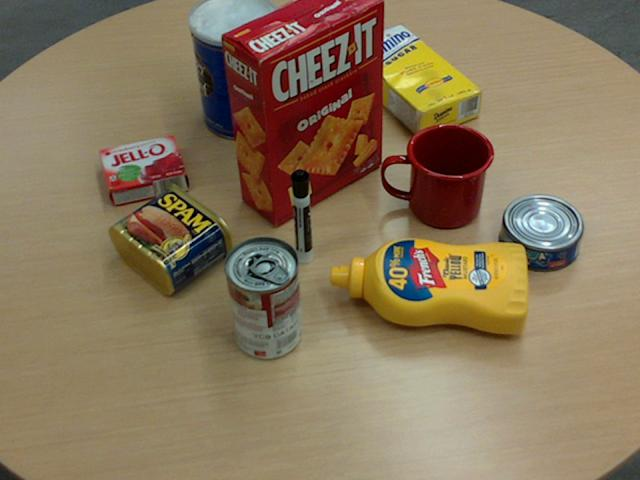cracker_box: (220, 0, 384, 225)
gelatin_box: (98, 133, 186, 204)
large_marker: (289, 169, 313, 264)
master_chef_can: (188, 0, 283, 140)
mug: (382, 122, 493, 227)
mustard_bottle: (329, 238, 527, 332)
potted_meat_can: (108, 182, 233, 294)
sugar_box: (343, 23, 482, 138)
tomato_soup_can: (222, 235, 301, 358)
tuna_fish_can: (498, 193, 583, 270)
